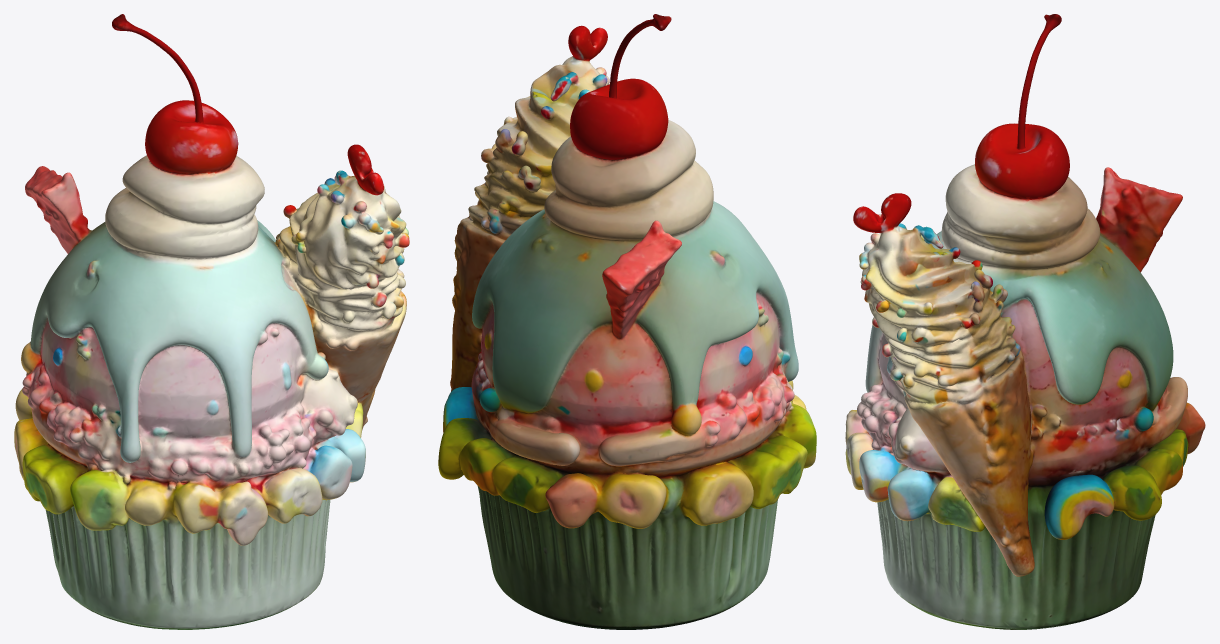
File: iceo.glb
3 views of the same model, side by side, from view 1: azimuth 30°, elevation 25°; view 2: azimuth 150°, elevation 25°; view 3: azimuth 270°, elevation 25° (orthographic). The views are drawn at different scales.
Visible parts, largest first — view 1: tripo_node_1c80718a-ccb9-4830-8fed-1ae44f548fd1; view 2: tripo_node_1c80718a-ccb9-4830-8fed-1ae44f548fd1; view 3: tripo_node_1c80718a-ccb9-4830-8fed-1ae44f548fd1.
Boxes of the visible parts, <box> form: tripo_node_1c80718a-ccb9-4830-8fed-1ae44f548fd1: <box>14,14,409,629</box>; tripo_node_1c80718a-ccb9-4830-8fed-1ae44f548fd1: <box>438,14,816,629</box>; tripo_node_1c80718a-ccb9-4830-8fed-1ae44f548fd1: <box>845,14,1205,629</box>.
Size of the model in its own units: 0.6302 by 1 by 0.5953.
1 material, 1 textured.
